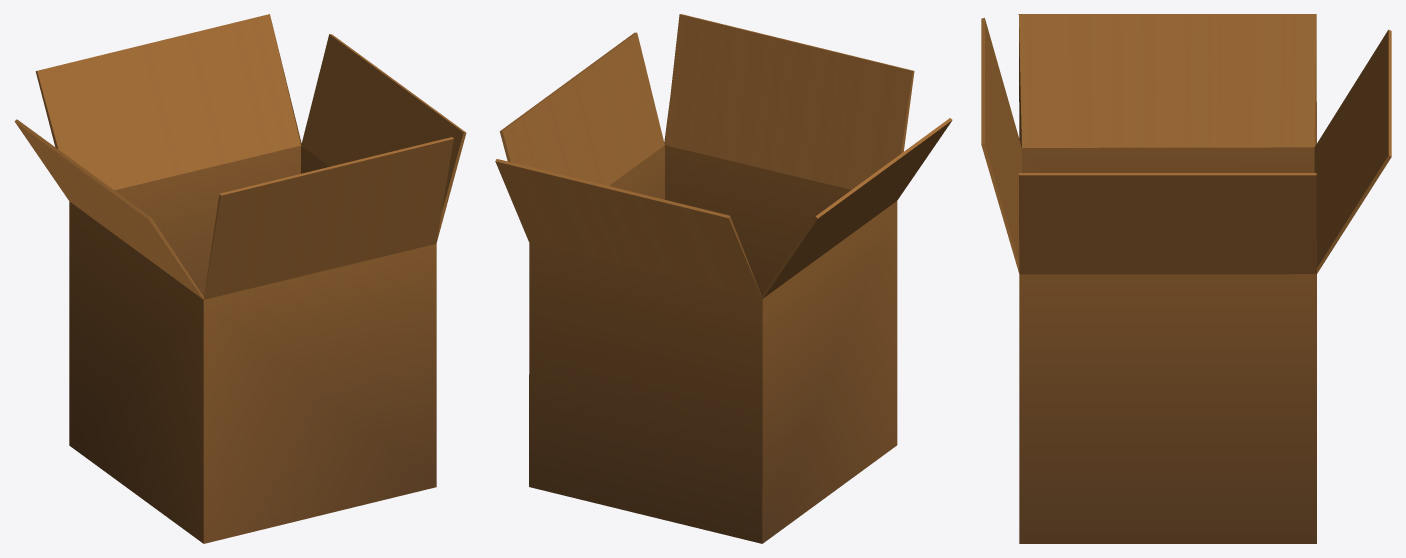
File: CardboardBox_Open.fbx
3 renders of one model, left to right at view 1: azimuth 30°, elevation 25°; view 2: azimuth 150°, elevation 25°; view 3: azimuth 270°, elevation 25°, orthographic. The views are drawn at different scales.
Parts seen in each view (by area): view 1: CardboardBox_Open; view 2: CardboardBox_Open; view 3: CardboardBox_Open.
Boxes of the visible parts, x1=… form: CardboardBox_Open: x1=14, y1=14, x2=466, y2=543; CardboardBox_Open: x1=495, y1=14, x2=952, y2=543; CardboardBox_Open: x1=981, y1=14, x2=1391, y2=543.
Size of the model in its own units: 109 by 119 by 110.
